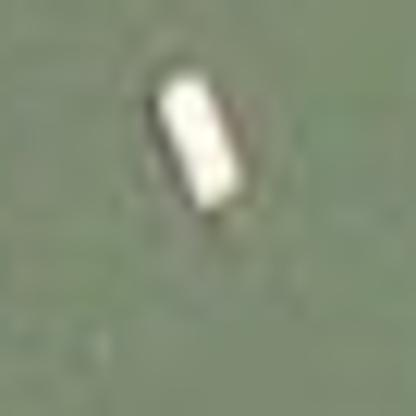ship: (131, 56, 263, 224)
